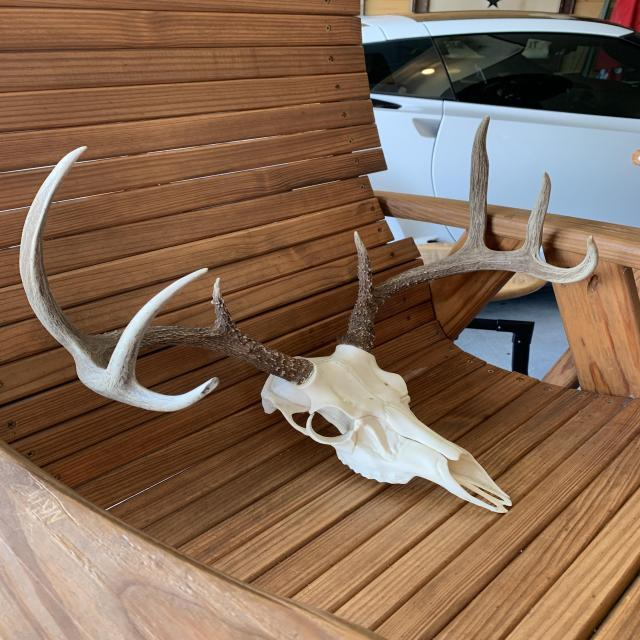L-F: (338, 235, 600, 354)
L-G1: (353, 230, 374, 296)
L-G2: (458, 115, 491, 252)
L-G3: (520, 171, 552, 256)
R-G1: (211, 277, 239, 330)
R-G2: (19, 145, 95, 362)
R-G3: (106, 266, 210, 383)
